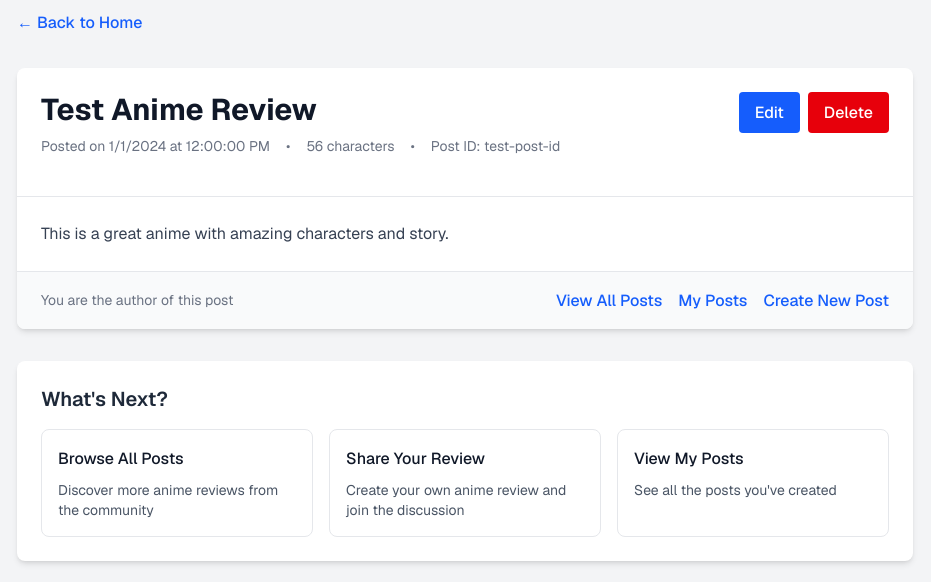
PostDetail › Post Deletion › handles deletion error
Click the button "Delete".
click(848, 112)  # box x1=808 y1=92 x2=889 y2=133
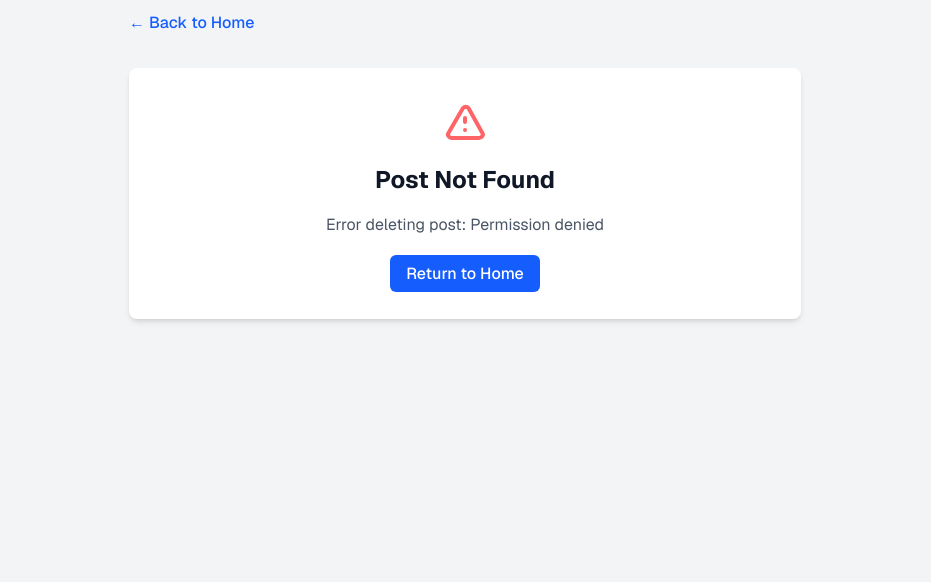
Expected: the text "Error deleting post: Permission denied" is shown, x1=326 y1=214 x2=604 y2=235
